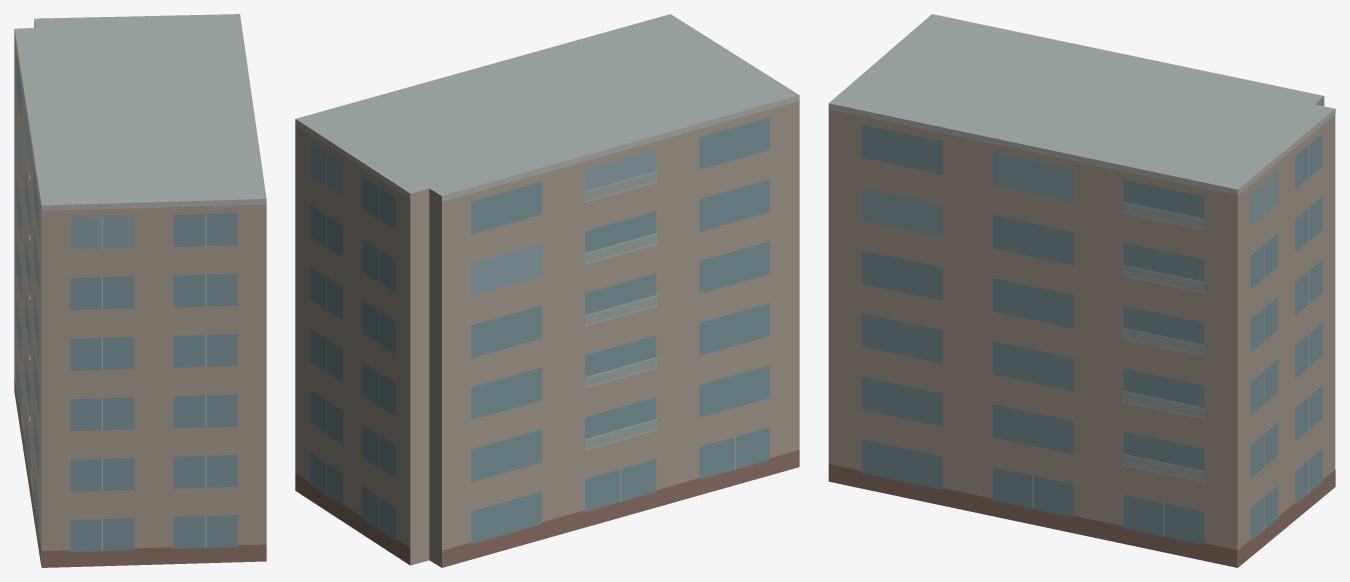
File: survey-upis-33046315.glb
3 renders of one model, left to right at view 1: azimuth 30°, elevation 25°; view 2: azimuth 150°, elevation 25°; view 3: azimuth 270°, elevation 25°, orthographic. The views are drawn at different scales.
Visible parts, largest first — view 1: survey-upis-33046315.tmp; view 2: survey-upis-33046315.tmp; view 3: survey-upis-33046315.tmp.
Part boxes in pixels (<box>): survey-upis-33046315.tmp: <box>14,14,266,567</box>; survey-upis-33046315.tmp: <box>295,14,799,567</box>; survey-upis-33046315.tmp: <box>828,14,1335,567</box>.
Size of the model in its own units: 15.75 by 15.8 by 19.2.
